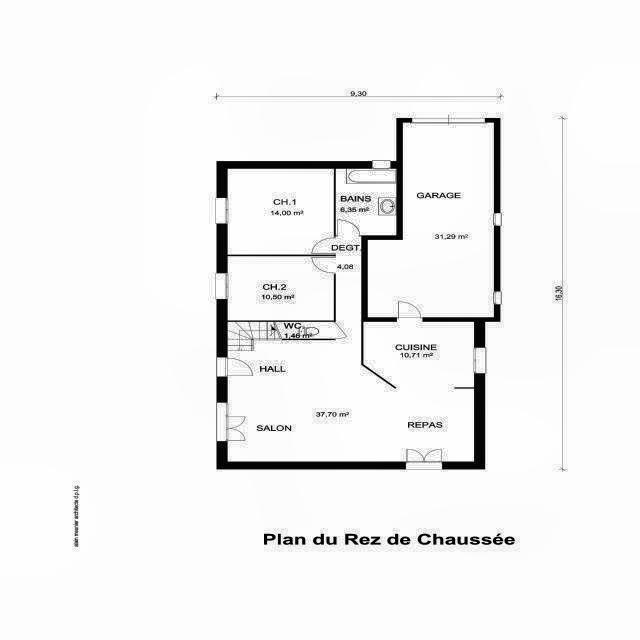room: (228, 236, 474, 461), (368, 123, 494, 317), (228, 169, 334, 255), (228, 256, 334, 321), (336, 169, 396, 235)
